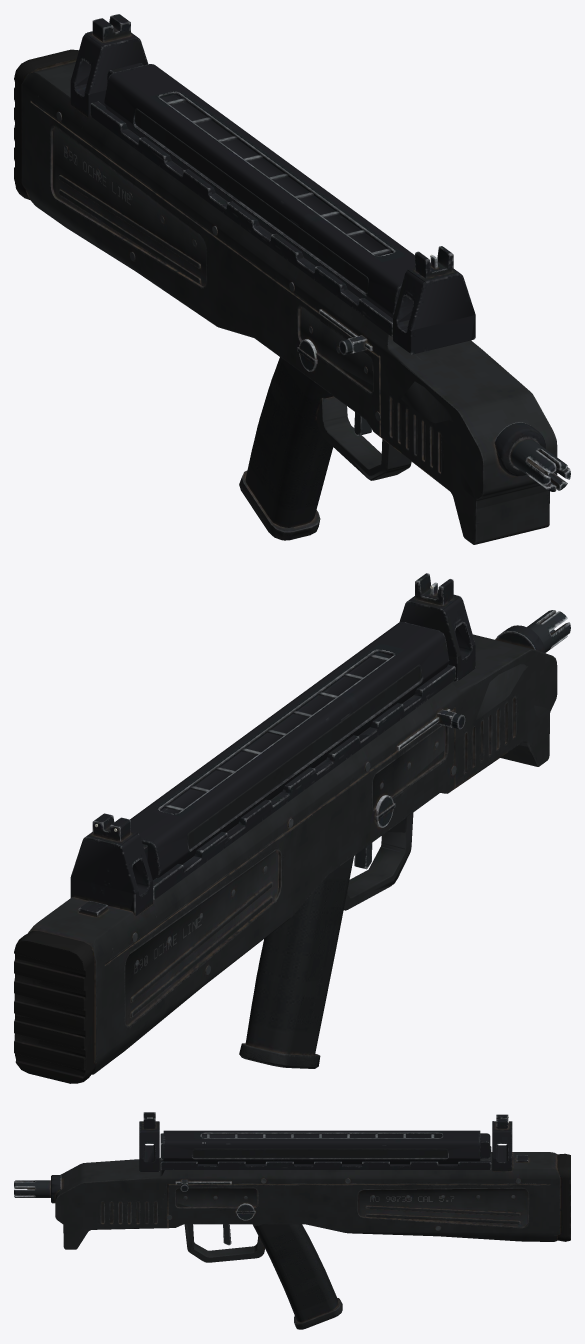
3 renders of one model, top to bottom at view 1: azimuth 30°, elevation 25°; view 2: azimuth 150°, elevation 25°; view 3: azimuth 270°, elevation 25°, orthographic. The views are drawn at different scales.
Parts seen in each view (by area): view 1: b90, b90_w, b90_mag; view 2: b90, b90_w, b90_mag; view 3: b90, b90_w, b90_mag.
Boxes of the visible parts, x1,y1,x2,y2 form: b90: [14, 14, 570, 544]; b90_w: [14, 21, 569, 544]; b90_mag: [104, 63, 414, 318]; b90: [14, 573, 570, 1083]; b90_w: [14, 581, 567, 1083]; b90_mag: [130, 622, 448, 879]; b90: [14, 1112, 570, 1329]; b90_w: [14, 1116, 570, 1329]; b90_mag: [160, 1130, 490, 1164].
Bounding box in the file's own units: 0.075 × 0.2315 × 0.5557.
1 material, 1 textured.
